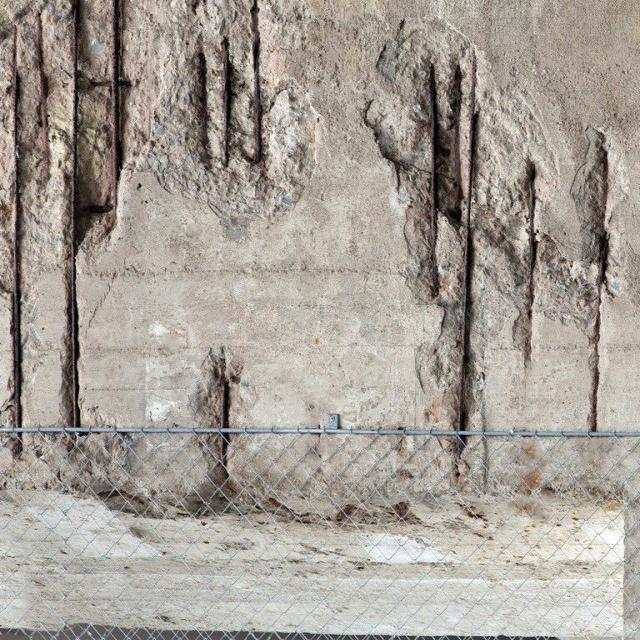Rebar: (0, 0, 322, 451), (362, 18, 625, 483), (186, 344, 255, 491)
concrete spalling: (68, 480, 425, 530)
